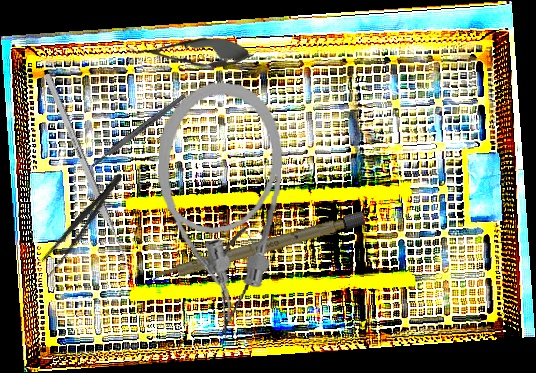Cannula: (147, 78, 288, 325)
Dressing Forceps: (35, 168, 129, 280)
Micro Scissor: (206, 221, 265, 342), (127, 35, 255, 70)
Pusher: (42, 72, 134, 272)
Scalpel Handle: (150, 210, 366, 286), (90, 93, 187, 169)
